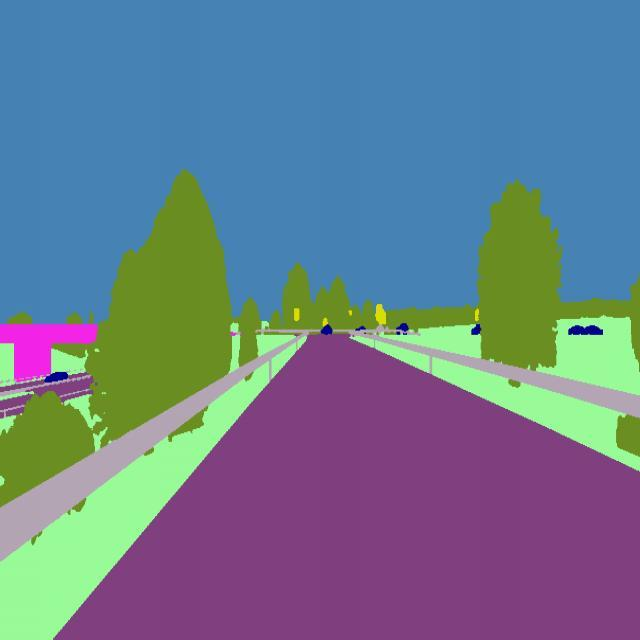safe: (564, 318, 589, 338), (582, 318, 606, 336), (42, 369, 69, 385), (393, 320, 413, 340), (351, 322, 368, 343), (319, 320, 333, 340), (466, 322, 483, 338)
